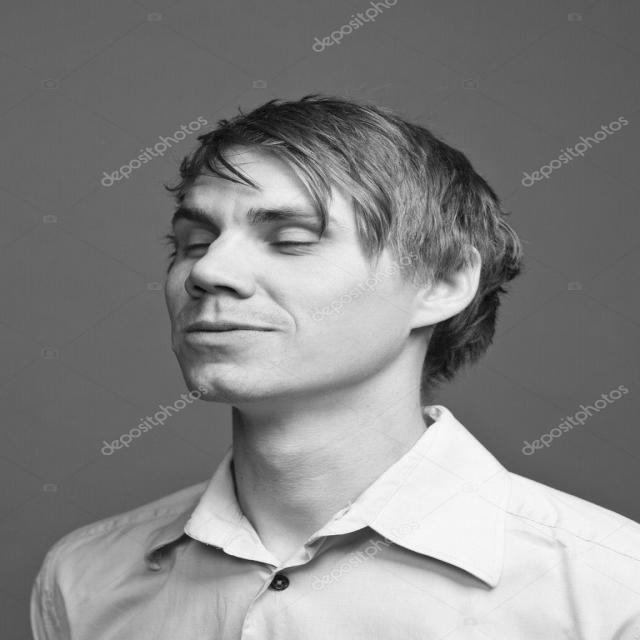real: (164, 115, 483, 400), (163, 190, 367, 264)
